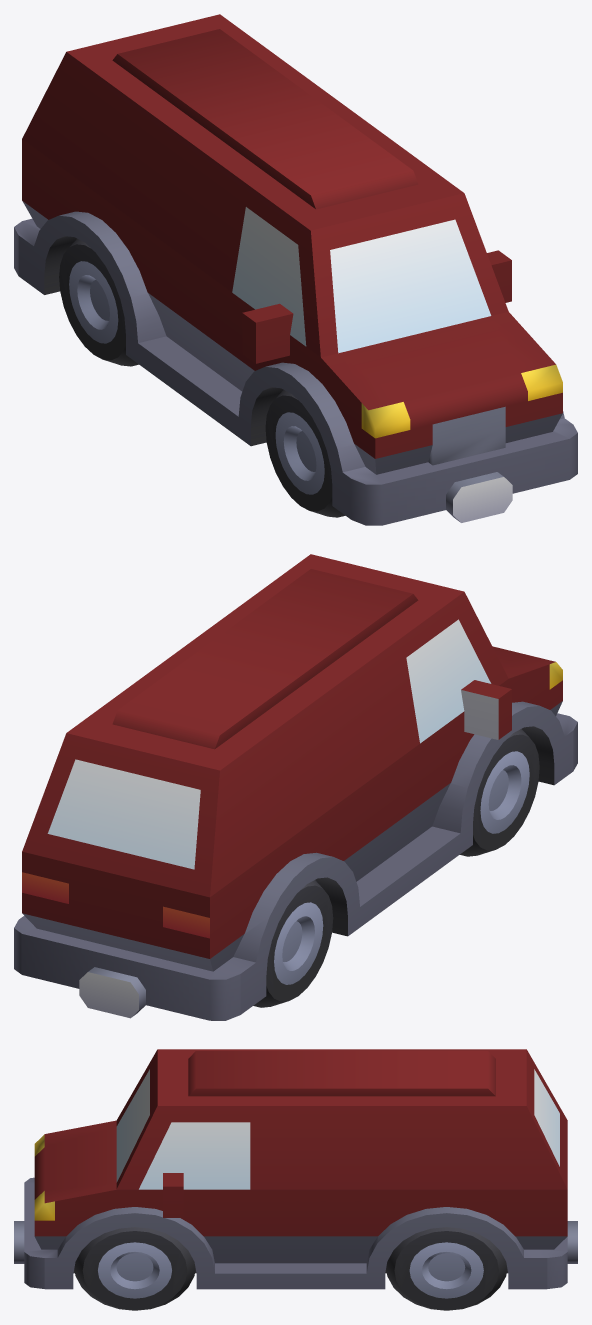
File: van-red.glb
The picture shows the model from 3 angles, top to bottom: view 1: azimuth 30°, elevation 25°; view 2: azimuth 150°, elevation 25°; view 3: azimuth 270°, elevation 25°; orthographic projection. The views are drawn at different scales.
Parts seen in each view (by area): view 1: van; view 2: van; view 3: van.
Boxes of the visible parts, left/top/right/bottom form: van: left=14, top=14, right=577, bottom=525; van: left=14, top=554, right=577, bottom=1020; van: left=14, top=1049, right=577, bottom=1310.
Bounding box in the file's own units: 1.98 × 2.05 × 5.
1 material, 1 textured.
